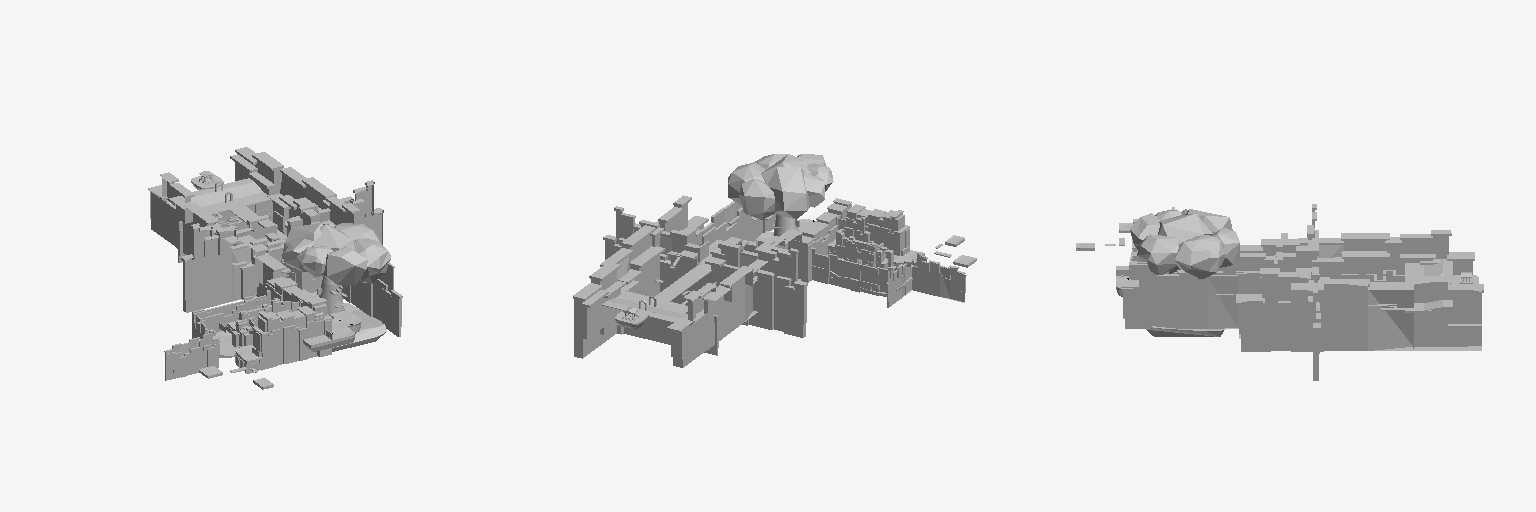
The model's file is BaseNivel3.obj.
3 renders of one model, left to right at view 1: azimuth 30°, elevation 25°; view 2: azimuth 150°, elevation 25°; view 3: azimuth 270°, elevation 25°, orthographic.
Parts seen in each view (by area): view 1: pared.011, pared.007, pared.009, pared.010, pared.006, pared.002, pared.001, pared.008, pared.013, Icosphere.020, Cube.138, pared.012 (+10 smaller); view 2: pared.011, pared.009, pared.010, pared.013, Cube.138, pared.001, pared.007, pared.006, pared.008, Icosphere.022, Icosphere.021, pared.012 (+6 smaller); view 3: pared.013, pared.010, pared.006, pared.009, pared.012, Icosphere.012, Icosphere.019, pared.011, Icosphere.024, Icosphere.021, Cube.008, Icosphere.020 (+1 smaller).
Boxes of the visible parts, x1,y1,x2,y2 form: pared.011: [181, 180, 383, 312]; pared.007: [252, 306, 324, 369]; pared.009: [148, 172, 218, 254]; pared.010: [230, 147, 306, 235]; pared.006: [342, 263, 402, 336]; pared.002: [230, 237, 283, 299]; pared.001: [164, 330, 219, 380]; pared.008: [266, 277, 332, 356]; pared.013: [293, 177, 360, 224]; Icosphere.020: [323, 246, 367, 285]; Cube.138: [192, 290, 270, 338]; pared.012: [212, 224, 290, 297]; pared.011: [603, 206, 807, 337]; pared.009: [667, 266, 753, 367]; pared.010: [573, 248, 641, 358]; pared.013: [621, 195, 708, 296]; Cube.138: [811, 247, 890, 299]; pared.001: [911, 252, 966, 302]; pared.007: [845, 204, 909, 255]; pared.006: [702, 201, 775, 245]; pared.008: [791, 198, 851, 282]; Icosphere.022: [767, 167, 810, 219]; Icosphere.021: [739, 179, 774, 219]; pared.012: [745, 229, 802, 321]; pared.013: [1236, 268, 1369, 351]; pared.010: [1368, 276, 1483, 350]; pared.006: [1121, 262, 1261, 329]; pared.009: [1341, 230, 1474, 281]; pared.012: [1229, 238, 1343, 278]; Icosphere.012: [1174, 235, 1224, 278]; Icosphere.019: [1137, 234, 1181, 274]; pared.011: [1307, 204, 1329, 380]; Icosphere.024: [1158, 214, 1212, 241]; Icosphere.021: [1211, 228, 1239, 267]; Cube.008: [1146, 326, 1225, 336]; Icosphere.020: [1130, 213, 1159, 249].
Size of the model in its own units: 395 by 146 by 484.